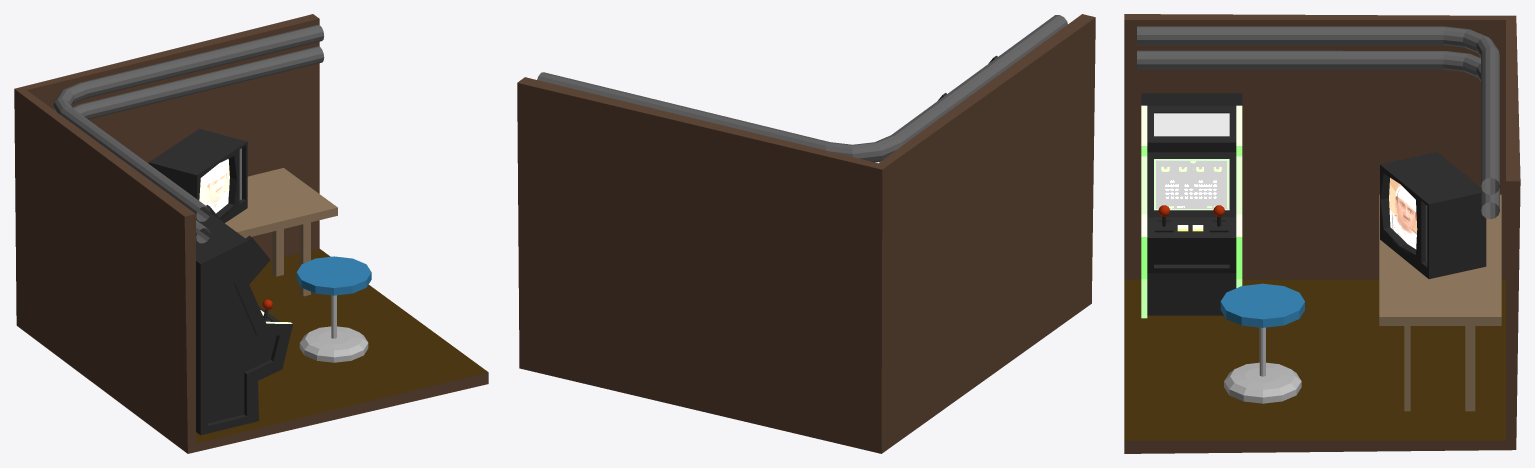
Rendered from ArcadeRoom.gltf.
The picture shows the model from 3 angles, left to right: view 1: azimuth 30°, elevation 25°; view 2: azimuth 150°, elevation 25°; view 3: azimuth 270°, elevation 25°; orthographic projection. The views are drawn at different scales.
Visible parts, largest first — view 1: Wall, Arcade, Tubes, TV, Table, Stool, StoolBase, TableBase; view 2: Wall, Tubes; view 3: Wall, Arcade, Tubes, TV, Table, Stool, StoolBase, TableBase, Joystick1, Joystick2.
Part boxes in pixels (x1,y1,x2,y2): Wall: [14, 14, 488, 453]; Arcade: [196, 205, 292, 435]; Tubes: [53, 24, 324, 243]; TV: [148, 129, 247, 223]; Table: [225, 168, 337, 238]; Stool: [296, 256, 371, 295]; StoolBase: [299, 295, 368, 362]; TableBase: [272, 222, 310, 296]; Wall: [517, 14, 1095, 453]; Tubes: [537, 15, 1067, 162]; Wall: [1124, 14, 1520, 453]; Arcade: [1141, 93, 1242, 318]; Tubes: [1137, 26, 1499, 219]; TV: [1380, 152, 1486, 278]; Table: [1379, 194, 1501, 325]; Stool: [1220, 283, 1304, 327]; StoolBase: [1224, 327, 1301, 403]; TableBase: [1404, 326, 1475, 411]; Joystick1: [1154, 205, 1173, 232]; Joystick2: [1209, 205, 1228, 232].
Size of the model in its own units: 8.31 by 6.31 by 8.31.
